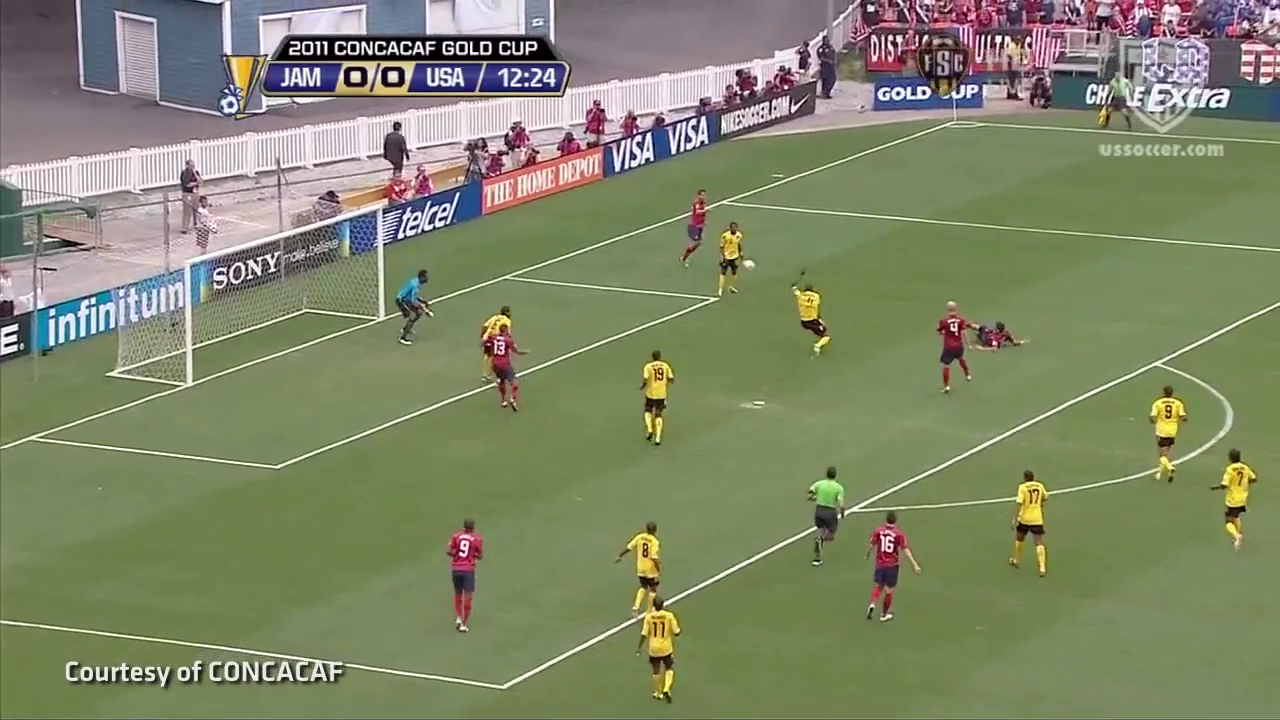person: (863, 511, 923, 625), (1210, 449, 1257, 552), (636, 598, 681, 704), (614, 521, 663, 618), (1009, 470, 1053, 578), (446, 518, 486, 635), (484, 325, 533, 409), (807, 466, 846, 567), (790, 270, 833, 358), (1149, 386, 1187, 484), (393, 269, 438, 347), (638, 350, 673, 447), (937, 299, 972, 393), (481, 303, 512, 383), (961, 318, 1030, 353), (716, 222, 745, 298), (681, 190, 708, 267)
